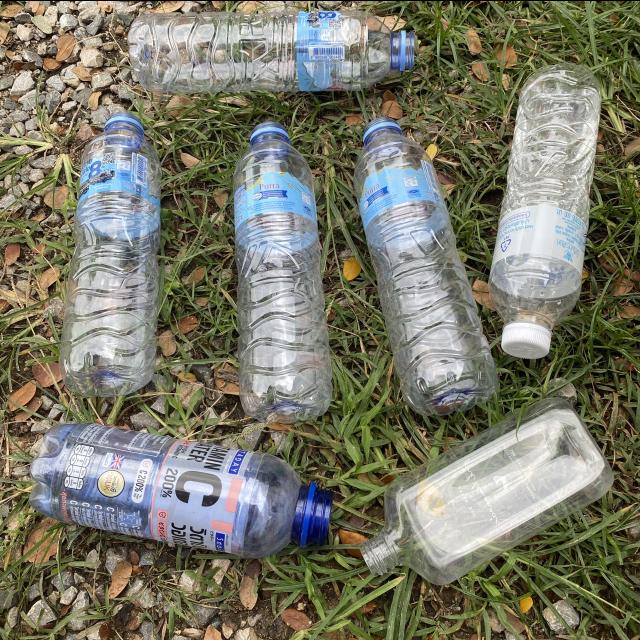plastik: (361, 397, 614, 584), (355, 117, 497, 413), (30, 422, 332, 556), (488, 62, 601, 358), (233, 122, 332, 422), (60, 112, 161, 396), (128, 9, 416, 93)
